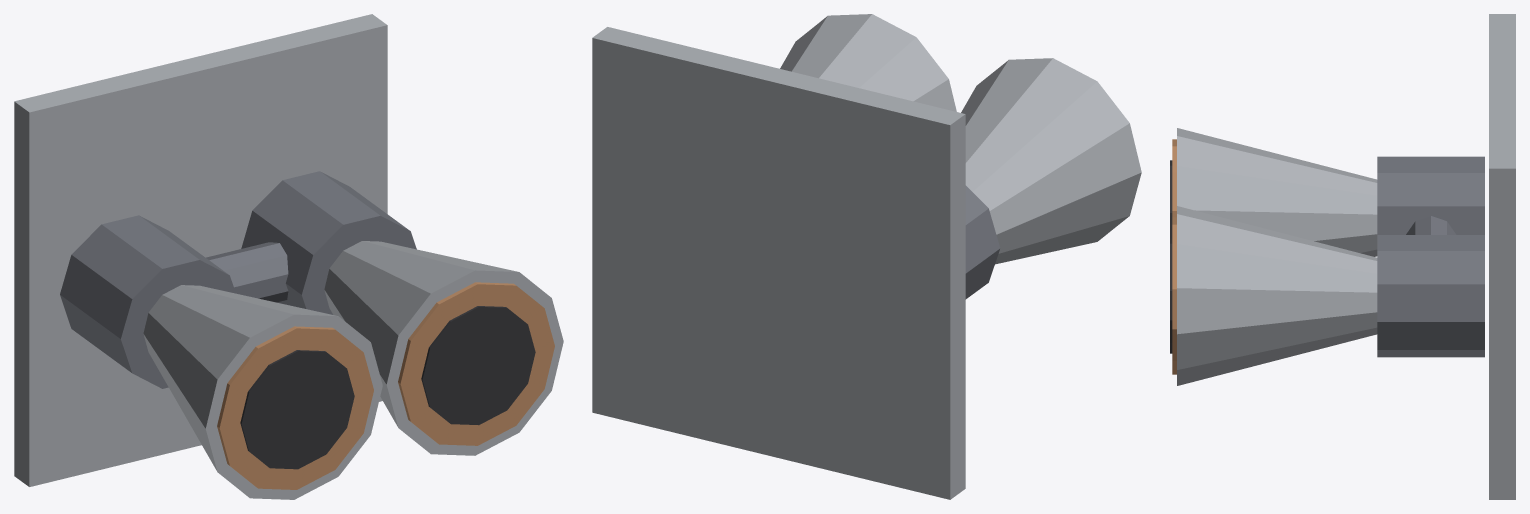
Rendered from shell_twin.glb.
3 renders of one model, left to right at view 1: azimuth 30°, elevation 25°; view 2: azimuth 150°, elevation 25°; view 3: azimuth 270°, elevation 25°, orthographic. The views are drawn at different scales.
Size of the model in its own units: 0.95 by 0.95 by 0.898.
